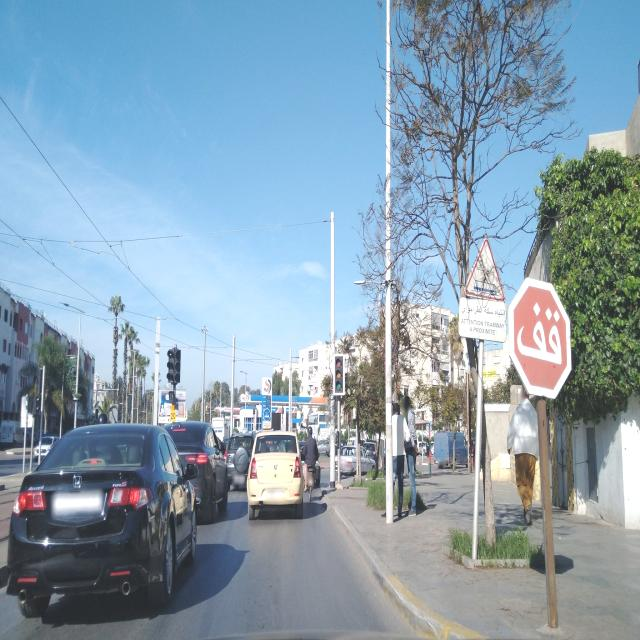car: (6, 422, 198, 622), (163, 419, 230, 524), (246, 429, 306, 520), (222, 433, 254, 492), (433, 428, 474, 472), (333, 441, 368, 478), (31, 434, 60, 465)
